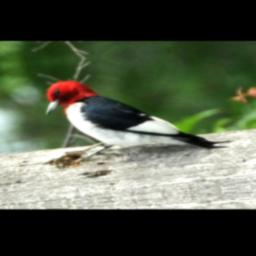Woodpecker: (37, 68, 230, 163)
